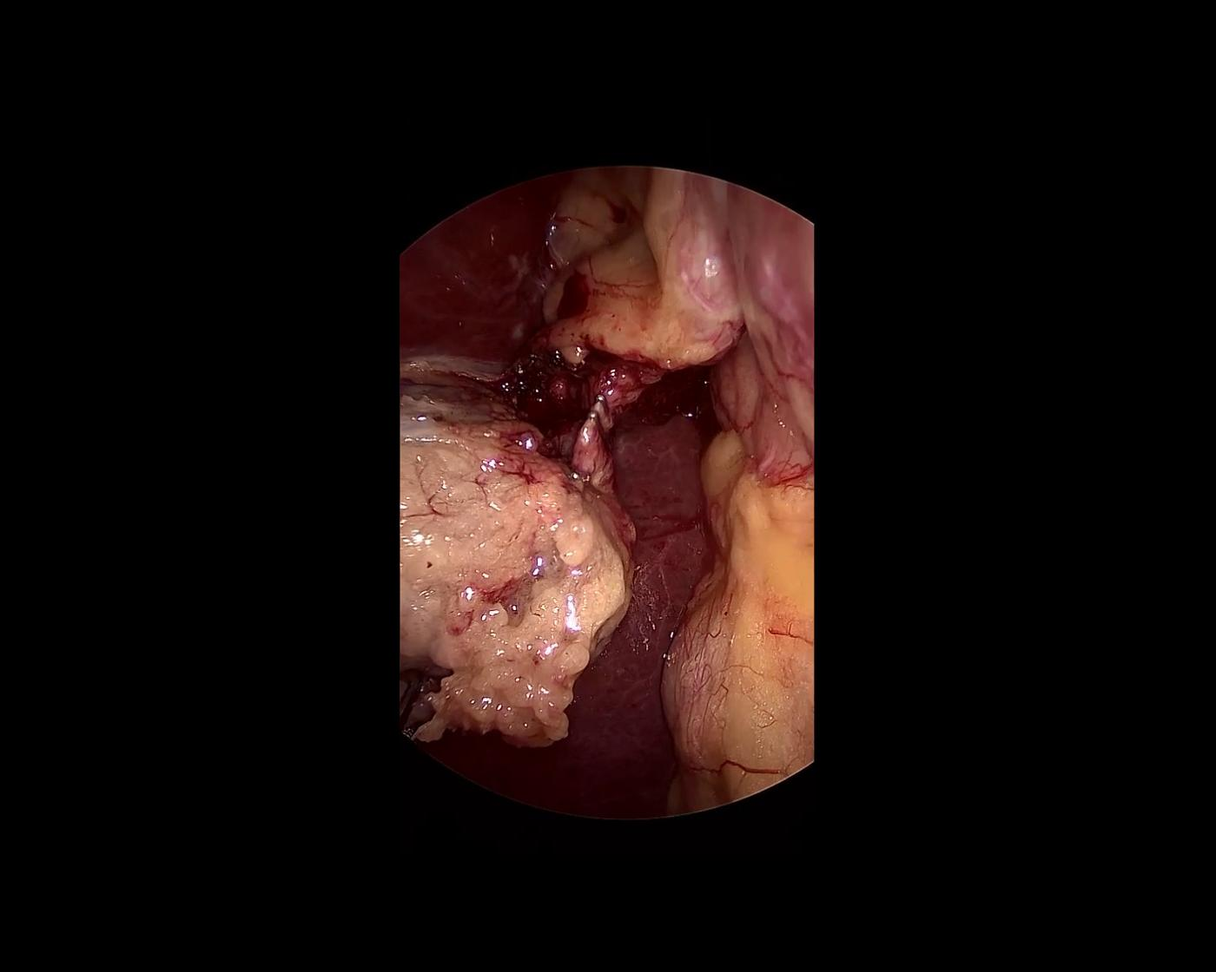Gallbladder: (402, 378, 635, 742)
Liver: (418, 356, 727, 826), (401, 170, 569, 379)
